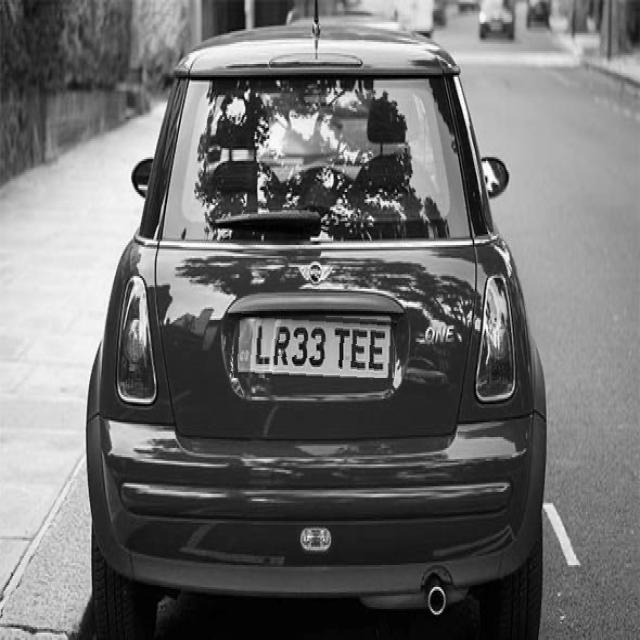licence: (233, 311, 397, 378)
